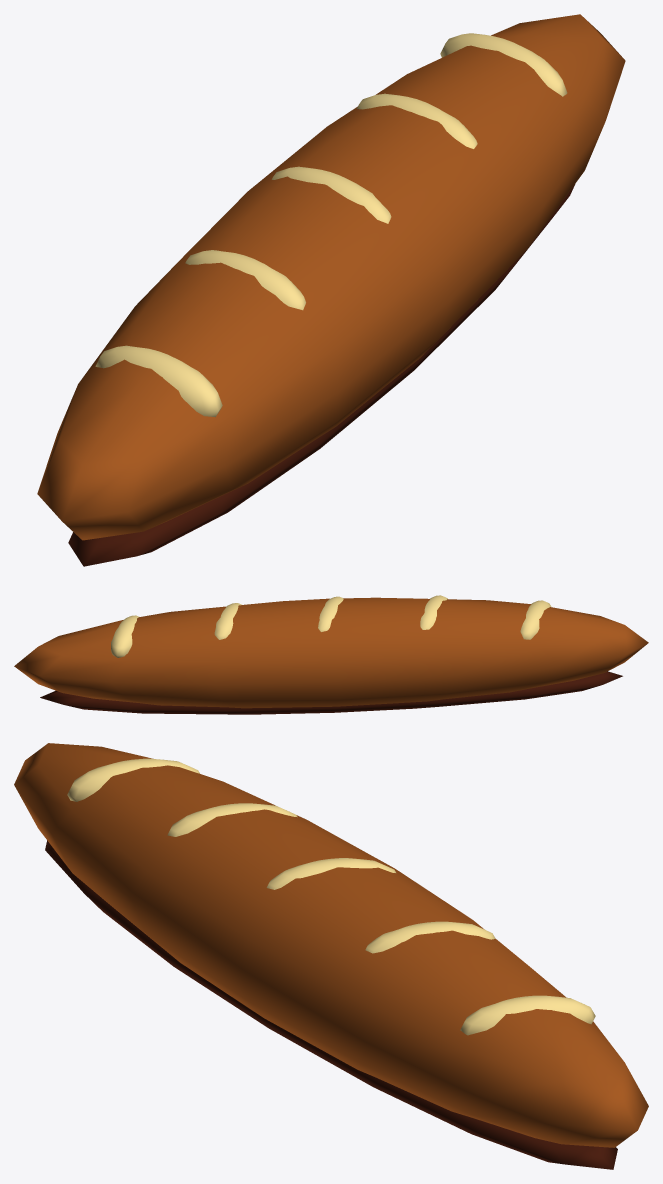
The model's file is CMU3DBakedBreadBaguette.glb.
The picture shows the model from 3 angles, top to bottom: view 1: azimuth 30°, elevation 25°; view 2: azimuth 150°, elevation 25°; view 3: azimuth 270°, elevation 25°; orthographic projection. The views are drawn at different scales.
Parts seen in each view (by area): view 1: long rounded baked crust, rounded lower crust, expanded pale score 1, expanded pale score 2, expanded pale score 5, expanded pale score 3, expanded pale score 4; view 2: long rounded baked crust, rounded lower crust, expanded pale score 5, expanded pale score 1, expanded pale score 4, expanded pale score 2, expanded pale score 3; view 3: long rounded baked crust, rounded lower crust, expanded pale score 5, expanded pale score 1, expanded pale score 4, expanded pale score 3, expanded pale score 2.
Boxes of the visible parts, x1,y1,x2,y2 form: long rounded baked crust: (37, 14, 625, 540); rounded lower crust: (68, 184, 575, 566); expanded pale score 1: (95, 345, 222, 417); expanded pale score 2: (185, 250, 305, 310); expanded pale score 5: (440, 33, 567, 96); expanded pale score 3: (271, 166, 391, 223); expanded pale score 4: (357, 93, 477, 148); long rounded baked crust: (14, 597, 648, 708); rounded lower crust: (40, 671, 622, 714); expanded pale score 5: (111, 615, 139, 657); expanded pale score 1: (520, 600, 551, 639); expanded pale score 4: (214, 603, 241, 639); expanded pale score 2: (420, 595, 447, 629); expanded pale score 3: (318, 596, 343, 631); long rounded baked crust: (14, 743, 648, 1147); rounded lower crust: (45, 840, 617, 1169); expanded pale score 5: (460, 995, 595, 1035); expanded pale score 1: (67, 758, 199, 801); expanded pale score 4: (365, 921, 495, 953); expanded pale score 3: (266, 858, 395, 889); expanded pale score 2: (167, 803, 297, 836).
Size of the model in its own units: 0.8192 by 0.172 by 0.5942.
